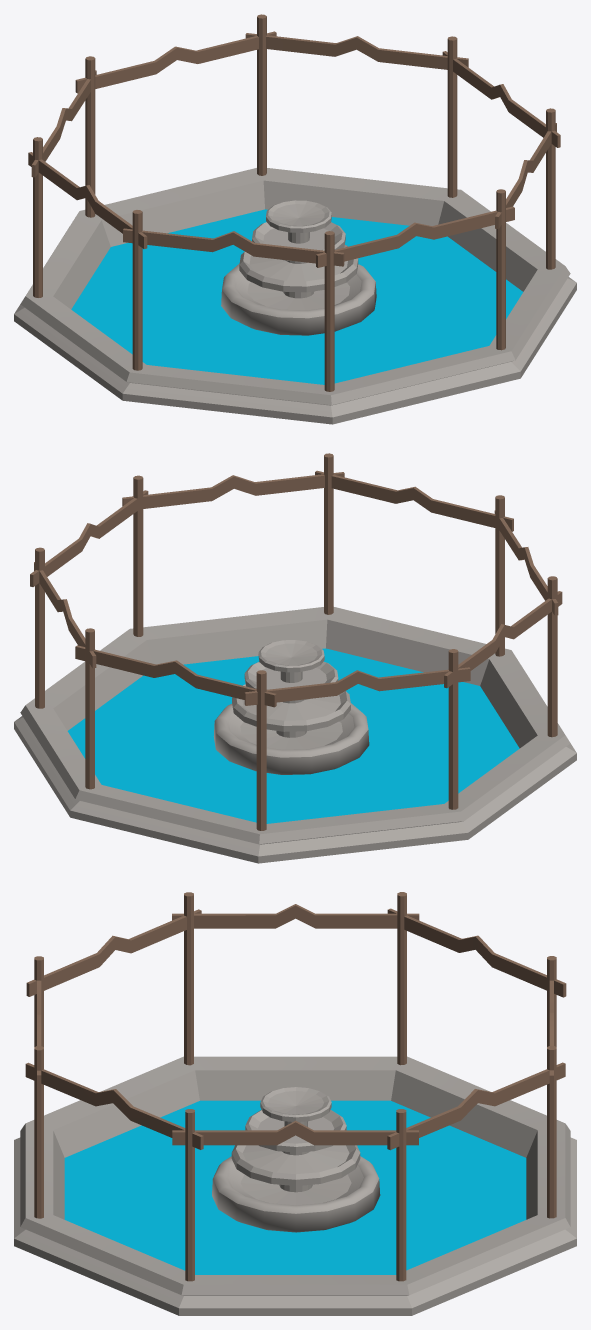
The model's file is DY_fontain.fbx.
The picture shows the model from 3 angles, top to bottom: view 1: azimuth 30°, elevation 25°; view 2: azimuth 150°, elevation 25°; view 3: azimuth 270°, elevation 25°; orthographic projection. The views are drawn at different scales.
Visible parts, largest first — view 1: Fontain; view 2: Fontain; view 3: Fontain.
Boxes of the visible parts, bbox=[...] form: Fontain: bbox=[14, 14, 576, 424]; Fontain: bbox=[14, 453, 576, 863]; Fontain: bbox=[14, 892, 576, 1315].
Bounding box in the file's own units: 75.94 × 30.35 × 75.94.
